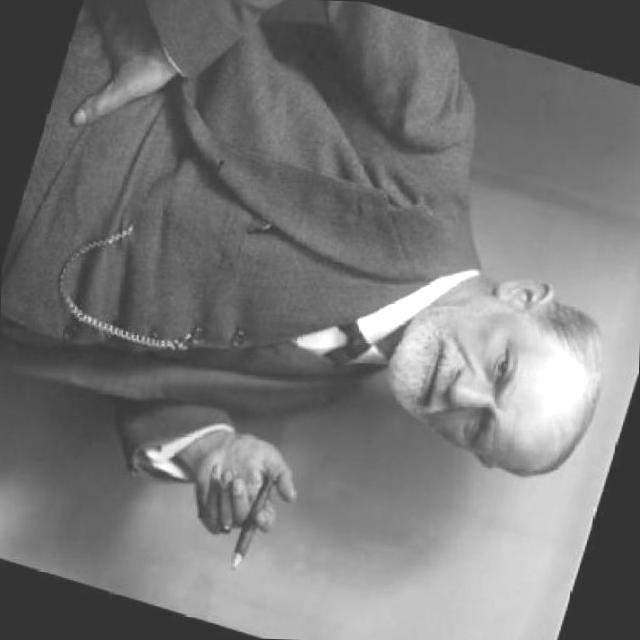smoke: (227, 464, 280, 574)
